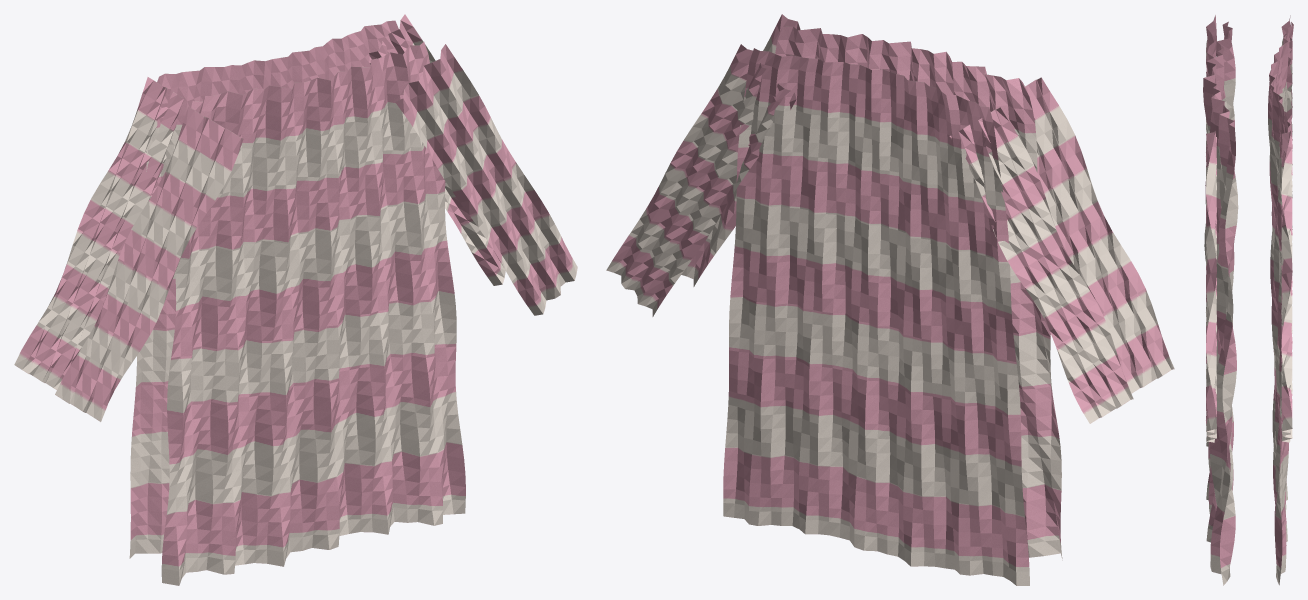
File: 02-pink-stripe.glb
3 renders of one model, left to right at view 1: azimuth 30°, elevation 25°; view 2: azimuth 150°, elevation 25°; view 3: azimuth 270°, elevation 25°, orthographic. The views are drawn at different scales.
Visible parts, largest first — view 1: 02-pink-stripe; view 2: 02-pink-stripe; view 3: 02-pink-stripe.
Boxes of the visible parts, x1,y1,x2,y2 form: 02-pink-stripe: (14,14,577,585); 02-pink-stripe: (606,14,1174,585); 02-pink-stripe: (1203,15,1293,585).
Bounding box in the file's own units: 1.99 × 1.74 × 0.3226.
1 material, 1 textured.
